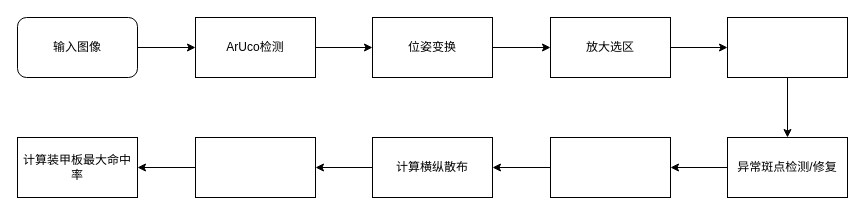
The diagram is 865 pixels wide and 215 high, and some of its shapes have lost their labels. The box of each missing label's shape, as (x1, y1, x2, y2) in pixels:
K-均值聚类: (550, 136, 670, 198)
斑点检测: (726, 16, 848, 78)
计算平均半径: (194, 136, 316, 198)
